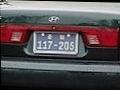License_Plate: (33, 30, 79, 57)
